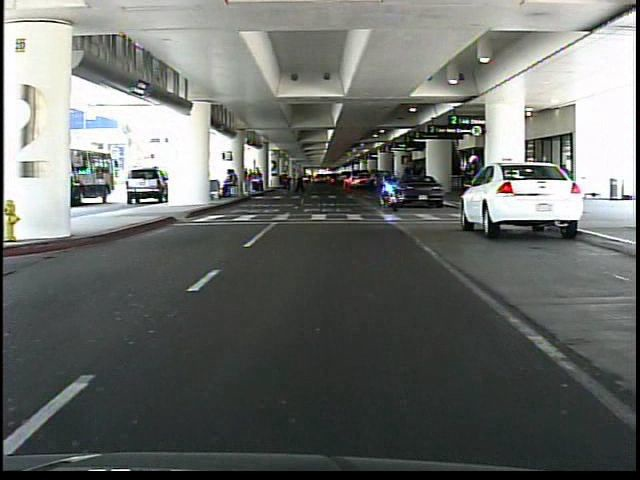person: (459, 150, 483, 224)
